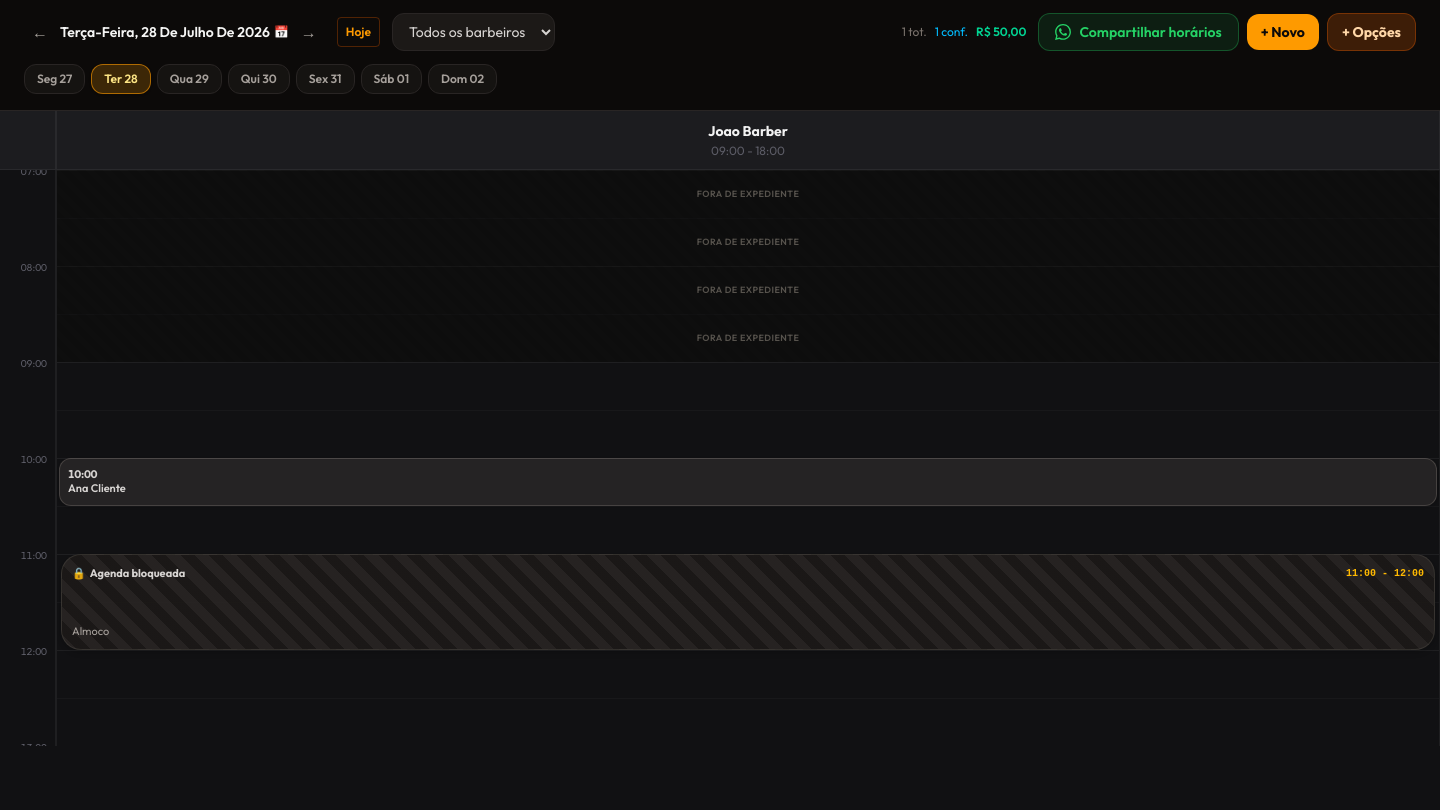
Test: Agenda operations UI › erro 422 mantem Appointment
Click the text "Ana Cliente": {"x": 97, "y": 488} [68,481,126,495]
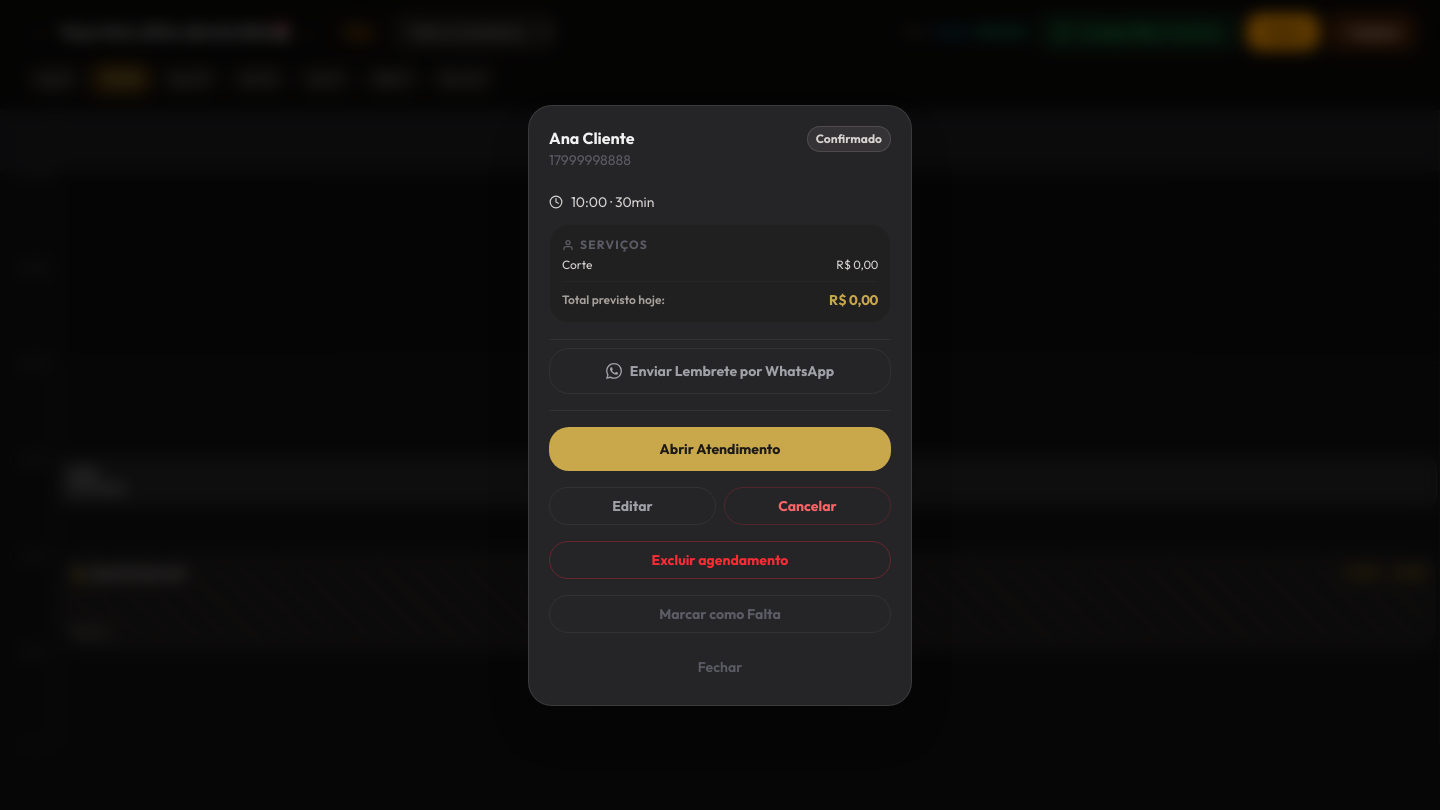
Click the button "Excluir agendamento": {"x": 720, "y": 560} [549,540,891,578]
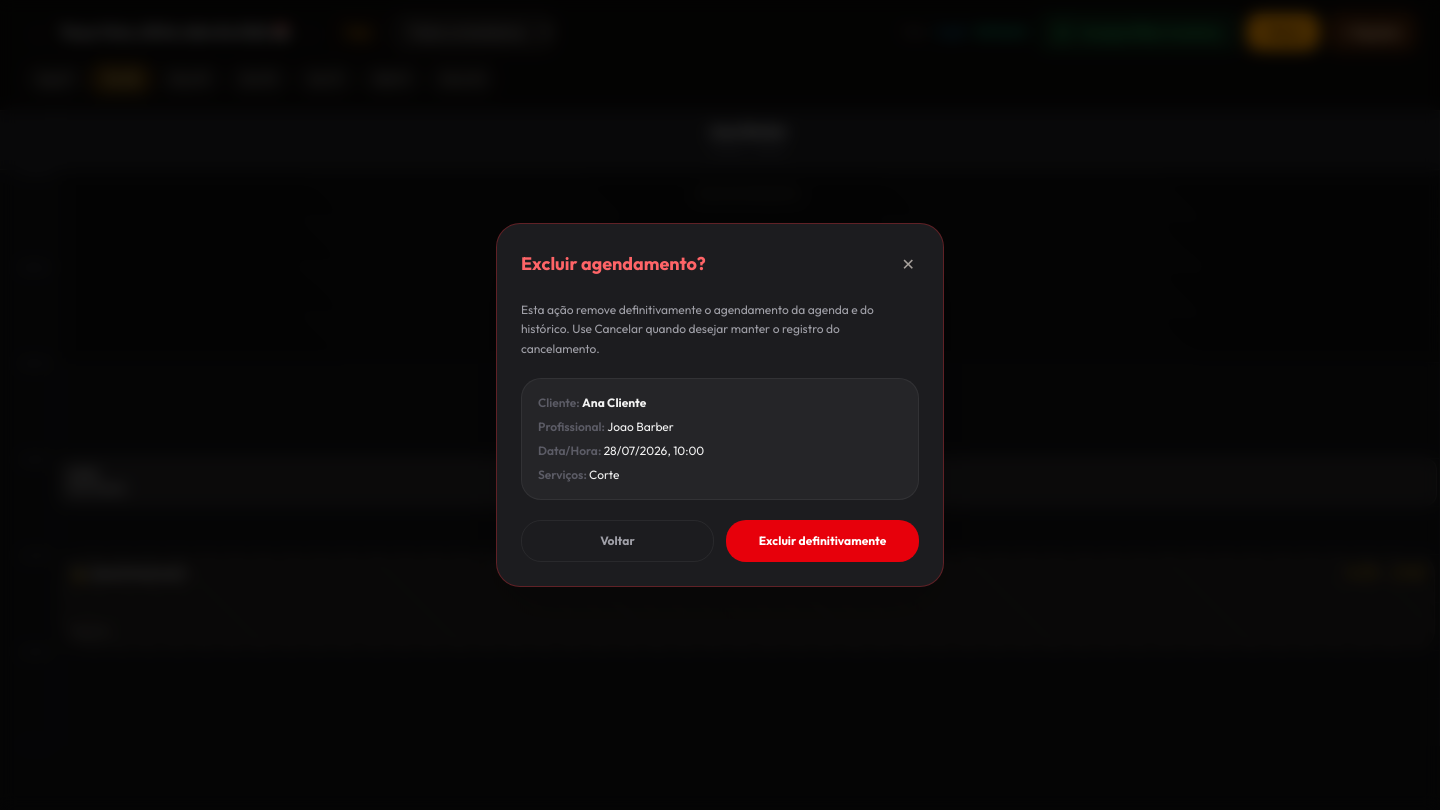
Click the button "Excluir definitivamente": {"x": 822, "y": 541} [726,520,919,562]
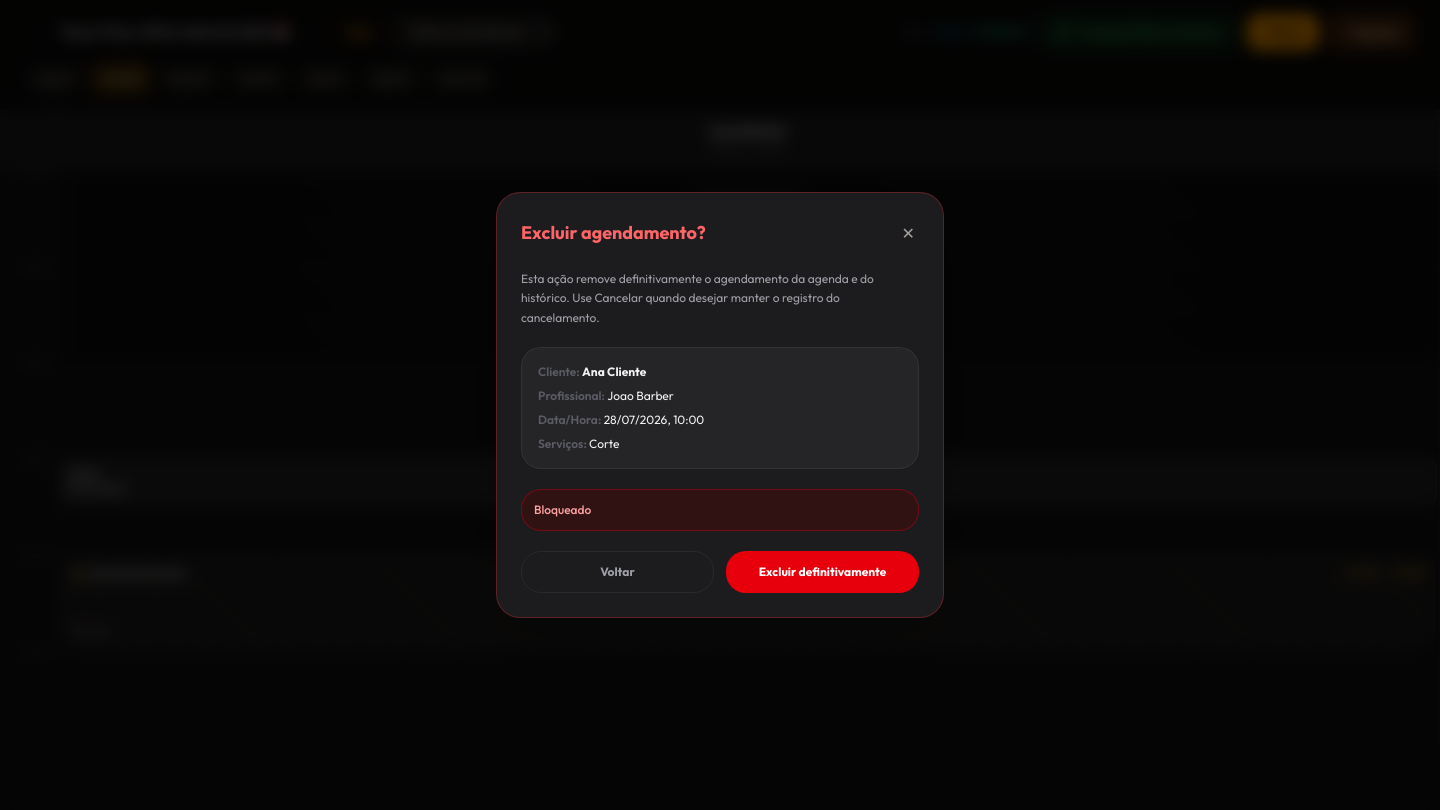
expect the text "Ana Cliente" is shown: met, box [582,364,646,379]
expect the text "Bloqueado" is shown: met, box [521,489,919,531]
